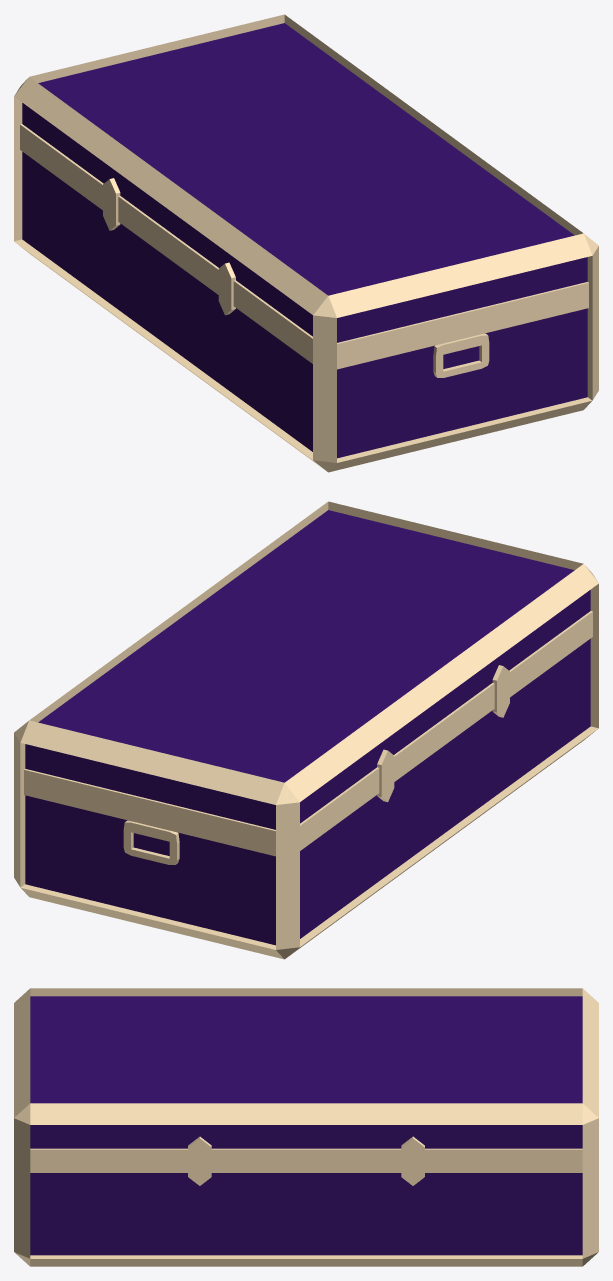
File: Caja 1.fbx
3 renders of one model, top to bottom at view 1: azimuth 30°, elevation 25°; view 2: azimuth 150°, elevation 25°; view 3: azimuth 270°, elevation 25°, orthographic. The views are drawn at different scales.
Visible parts, largest first — view 1: Caja backstage 1; view 2: Caja backstage 1; view 3: Caja backstage 1.
Part boxes in pixels (x1,y1,x2,y2): Caja backstage 1: (14, 14, 598, 472); Caja backstage 1: (14, 501, 598, 959); Caja backstage 1: (14, 988, 598, 1266).
Size of the model in its own units: 383 by 226 by 734.
